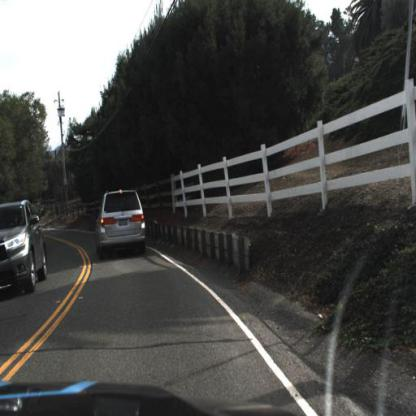car: (96, 187, 147, 257)
